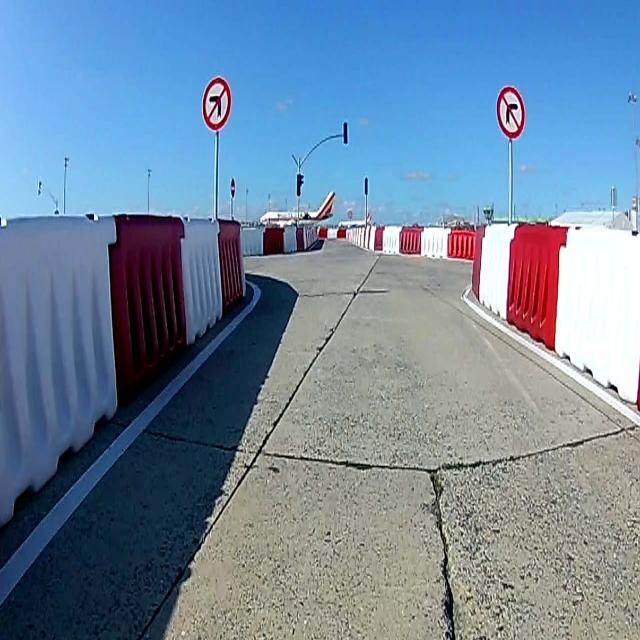sagadonulmez: (496, 85, 526, 139)
soladonulmez: (202, 77, 233, 130)
